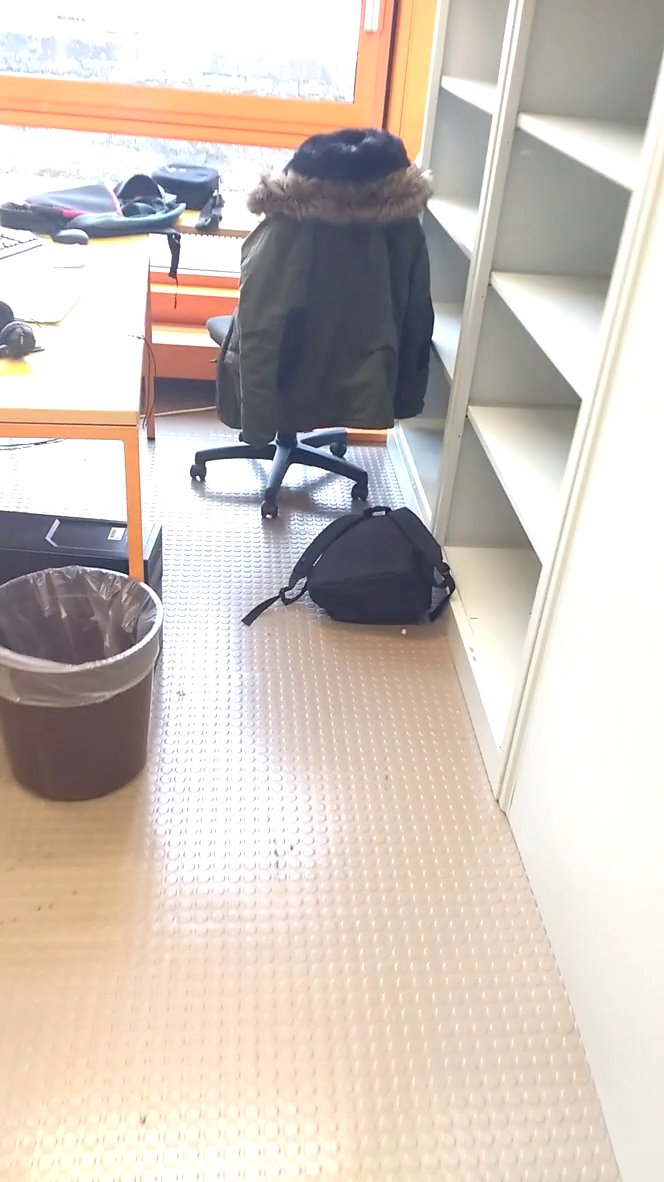bag: (235, 498, 465, 651)
bin: (1, 547, 173, 811)
